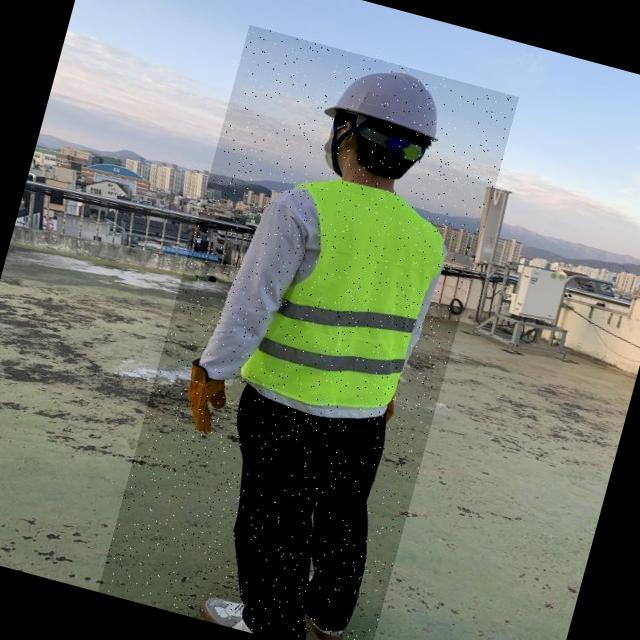Gloves: (183, 355, 241, 441)
Helmet: (321, 54, 453, 144)
Person: (178, 34, 470, 640)
Safety Boot: (197, 592, 262, 634), (299, 608, 349, 640)
Safety Vest: (239, 166, 458, 427)
